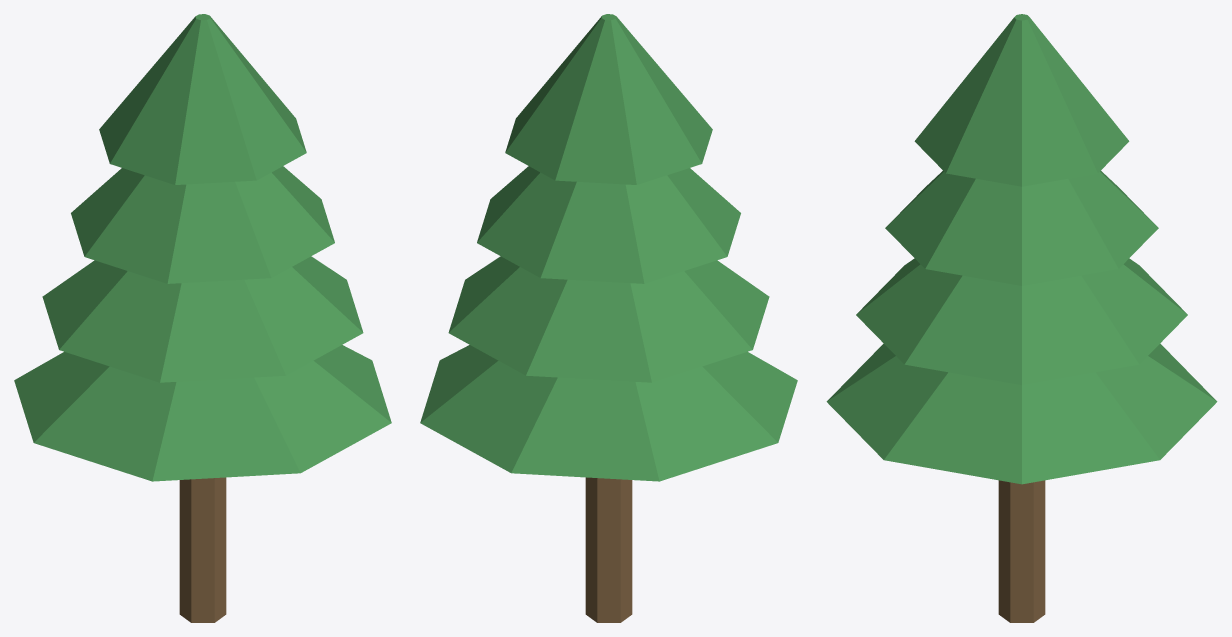
File: tree_conifer.glb
3 views of the same model, side by side, from view 1: azimuth 30°, elevation 25°; view 2: azimuth 150°, elevation 25°; view 3: azimuth 270°, elevation 25° (orthographic).
Parts seen in each view (by area): view 1: TreeConifer_foliage_0, TreeConifer_foliage_1, TreeConifer_foliage_2, TreeConifer_foliage_3, TreeConifer_trunk; view 2: TreeConifer_foliage_0, TreeConifer_foliage_1, TreeConifer_foliage_2, TreeConifer_foliage_3, TreeConifer_trunk; view 3: TreeConifer_foliage_0, TreeConifer_foliage_1, TreeConifer_foliage_2, TreeConifer_foliage_3, TreeConifer_trunk.
Boxes of the visible parts, x1=… form: TreeConifer_foliage_0: x1=14, y1=345, x2=391, y2=481; TreeConifer_foliage_1: x1=42, y1=256, x2=363, y2=382; TreeConifer_foliage_2: x1=71, y1=166, x2=334, y2=283; TreeConifer_foliage_3: x1=99, y1=14, x2=306, y2=184; TreeConifer_trunk: x1=179, y1=477, x2=226, y2=622; TreeConifer_foliage_0: x1=420, y1=345, x2=797, y2=481; TreeConifer_foliage_1: x1=448, y1=256, x2=769, y2=382; TreeConifer_foliage_2: x1=477, y1=166, x2=740, y2=283; TreeConifer_foliage_3: x1=505, y1=14, x2=712, y2=184; TreeConifer_trunk: x1=585, y1=477, x2=632, y2=622; TreeConifer_foliage_0: x1=826, y1=343, x2=1217, y2=484; TreeConifer_foliage_1: x1=856, y1=258, x2=1187, y2=384; TreeConifer_foliage_2: x1=885, y1=171, x2=1158, y2=285; TreeConifer_foliage_3: x1=914, y1=14, x2=1129, y2=186; TreeConifer_trunk: x1=998, y1=480, x2=1045, y2=622.
Bounding box in the file's own units: 1 × 1.68 × 1.
